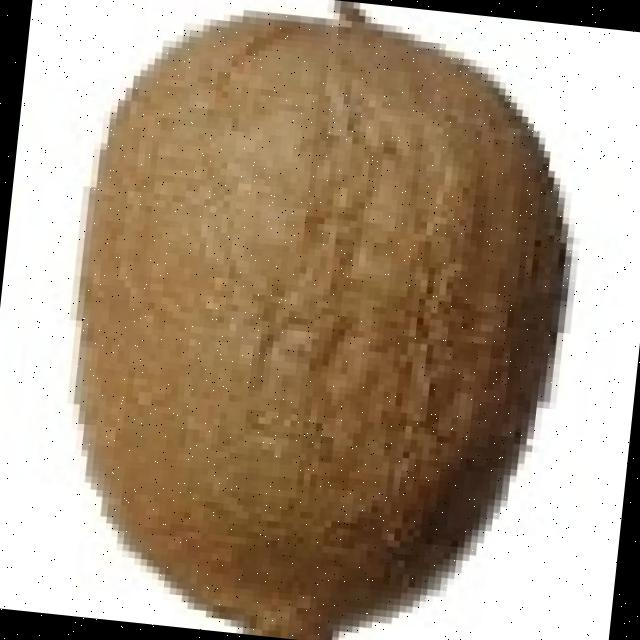kiwi: (73, 8, 552, 629)
